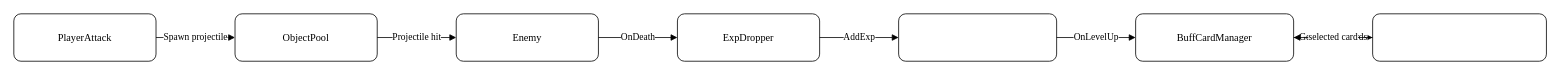
Image size: 1560x75. Some labels were removed from this diagram. Here are the shapes that lost their labels. From the top down, the centre of each, then its label:
At (x=977, y=37): "PlayerLevelSystem".
At (x=1459, y=37): "CardSelectionPanel".
